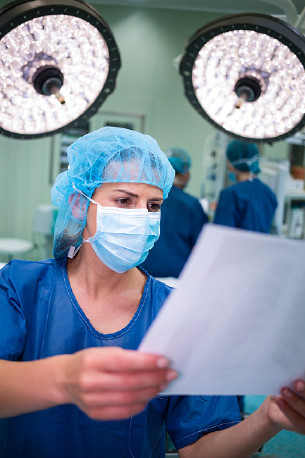face_mask: (87, 182, 160, 272)
